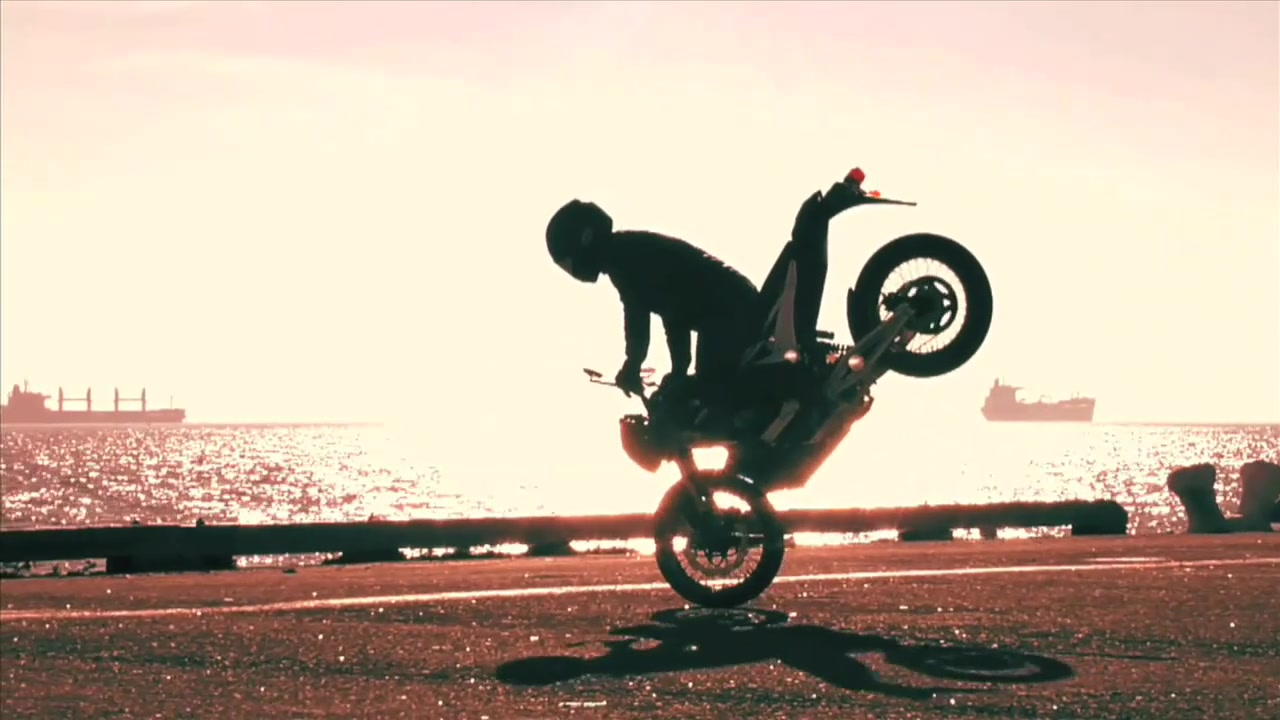motorbike: (586, 170, 995, 609)
